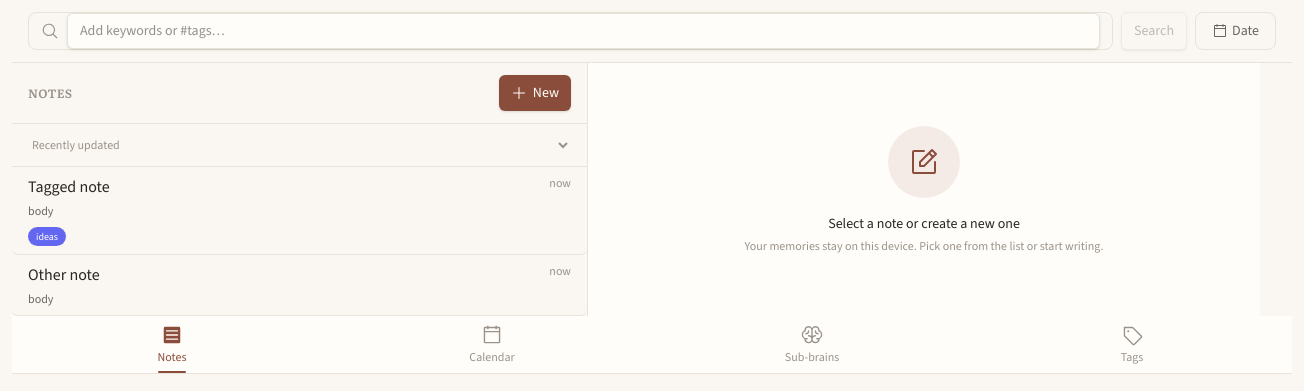
Test case: user flows (integration) › filters notes by tag from tags tab
Click the button "Tags". click: (1132, 344)
box: [972,316,1292,373]
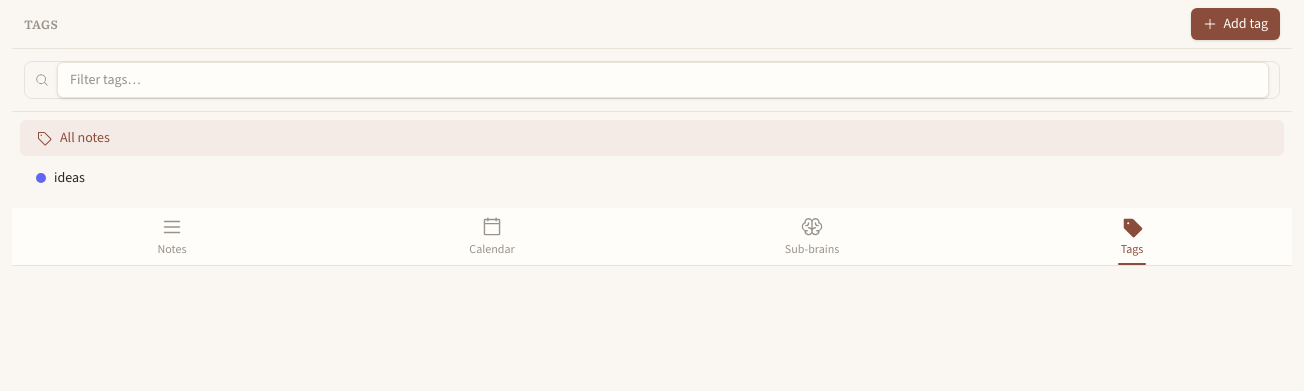
Click the button "ideas". click: (69, 177)
box: [20,160,1234,196]
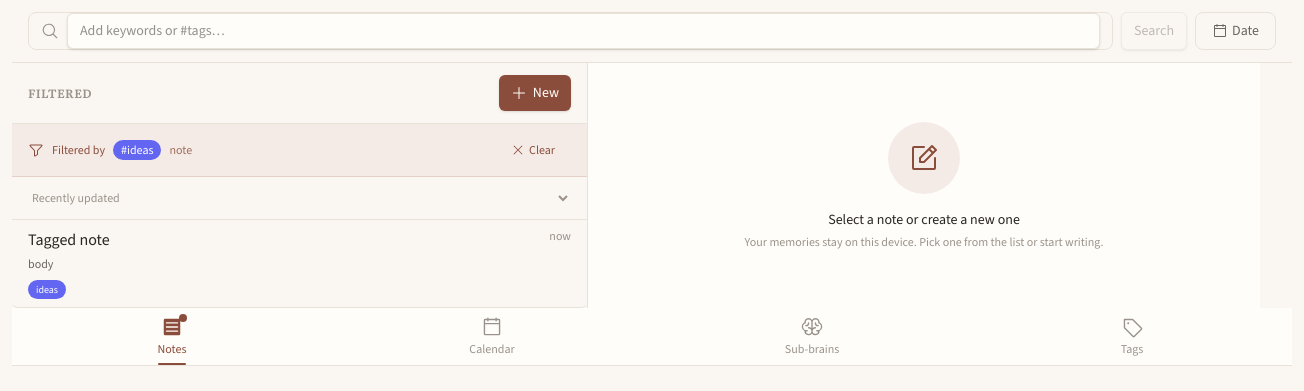
Expected: the button "Other note" is not shown
Now the heading "Filtered" is shown, box [28,85,92,101]
Now the text "Tagged note" is shown, box [28,228,110,252]
